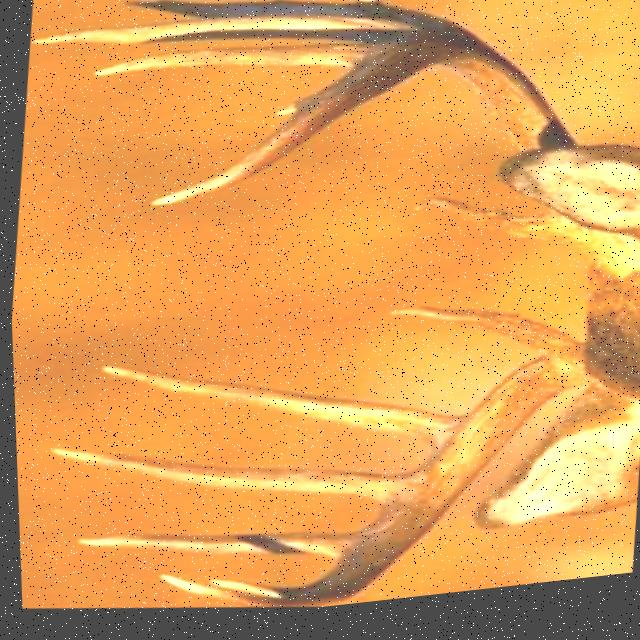E1: (268, 107, 296, 123)
L-F: (202, 353, 591, 603)
L-G1: (379, 311, 579, 369)
L-G2: (89, 364, 464, 462)
L-G3: (37, 445, 416, 513)
L-G4: (62, 535, 355, 565)
R-G1: (405, 204, 575, 264)
R-G2: (352, 0, 376, 12)
R-G3: (29, 20, 423, 51)
R-G4: (85, 50, 391, 82)
